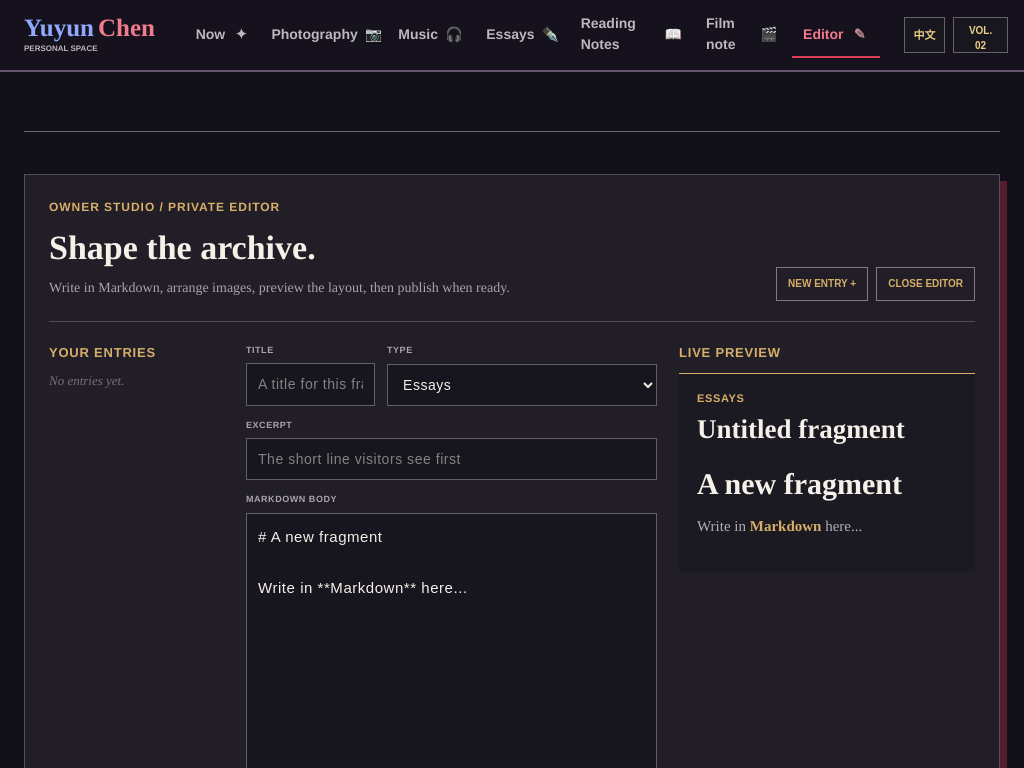
Test: owner session restoration › publishes an entry only to the visitors selected by the owner
The width and height of the screenshot is (1024, 768).
(page scrolled)
Type "For Alice" into the field with placeholder "A title for this fragment".
click(310, 384); type("For Alice")  # box [246,363,375,406]
(page scrolled)
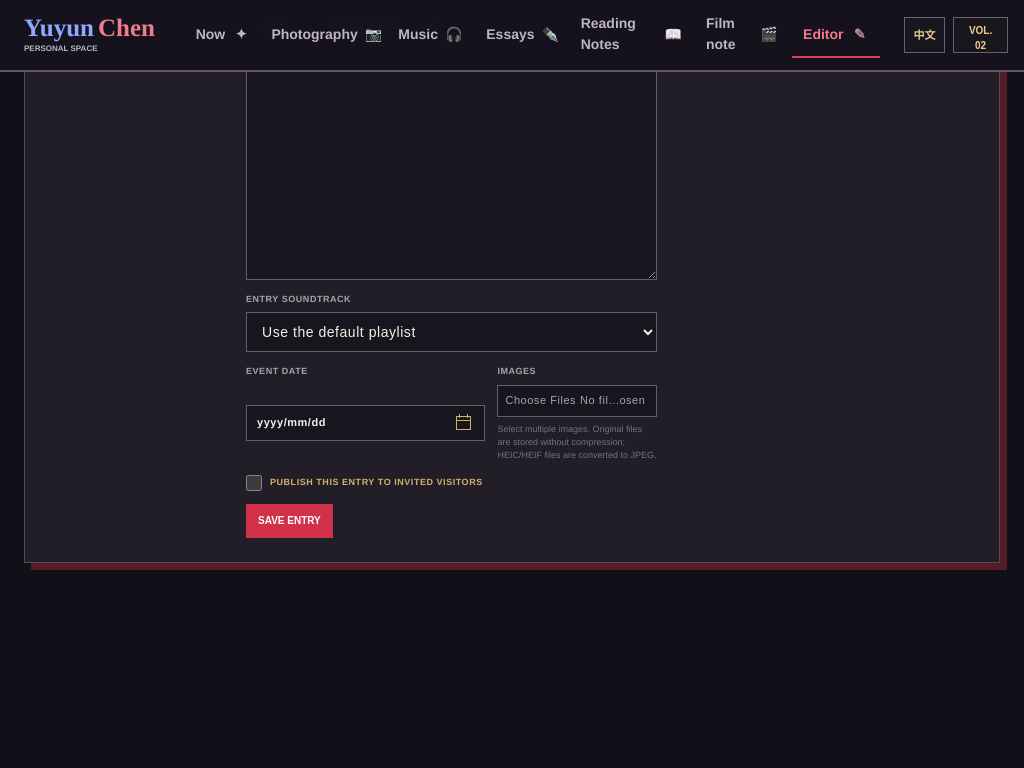
Click the checkbox labelled "Publish this entry to invited visitors".
click(254, 483)  # box [246,475,262,491]
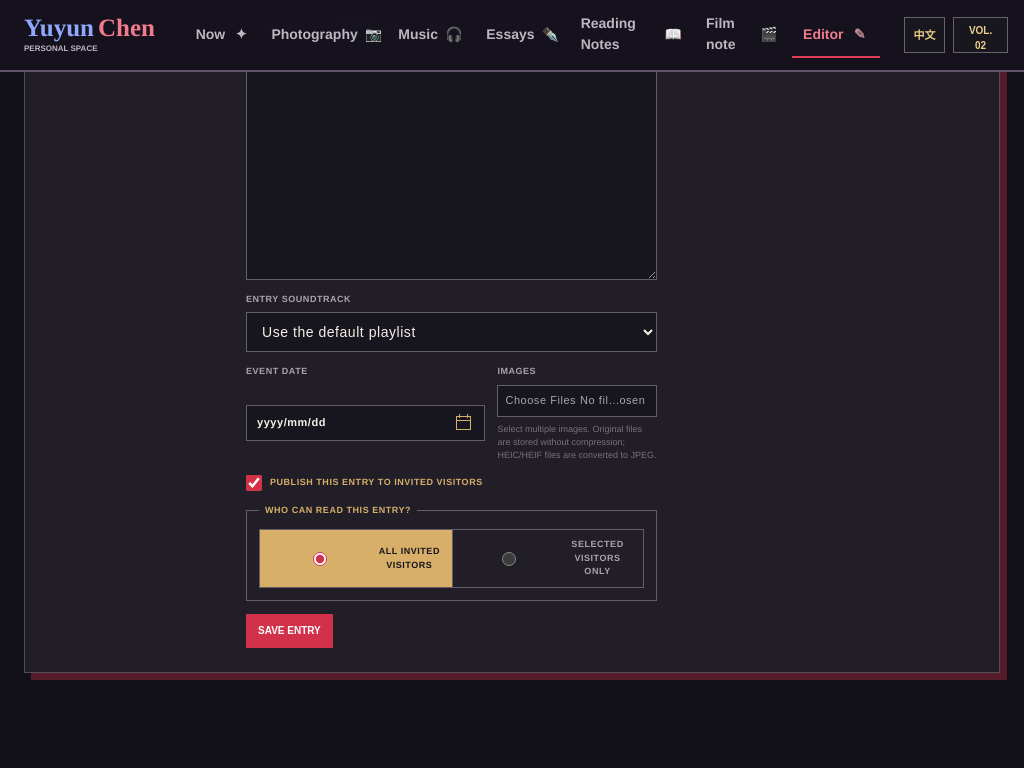
Click the radio button labelled "Selected visitors only".
click(509, 559)  # box [462,552,555,566]
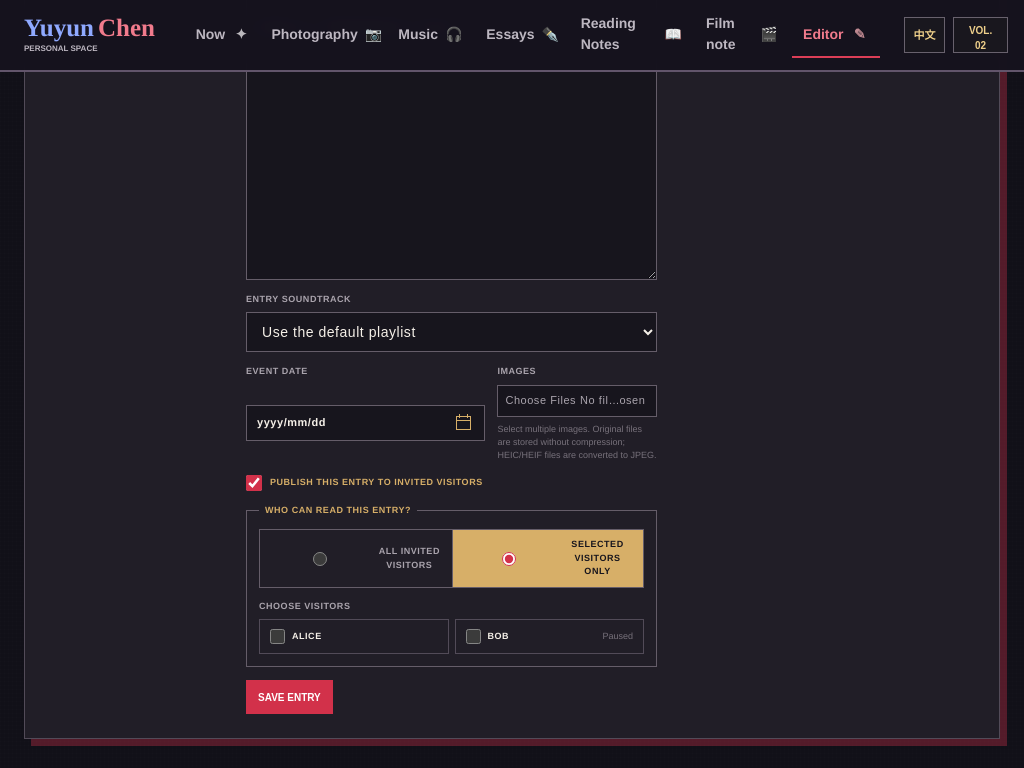
Click the checkbox labelled "Alice".
click(278, 637)  # box [270,630,285,644]
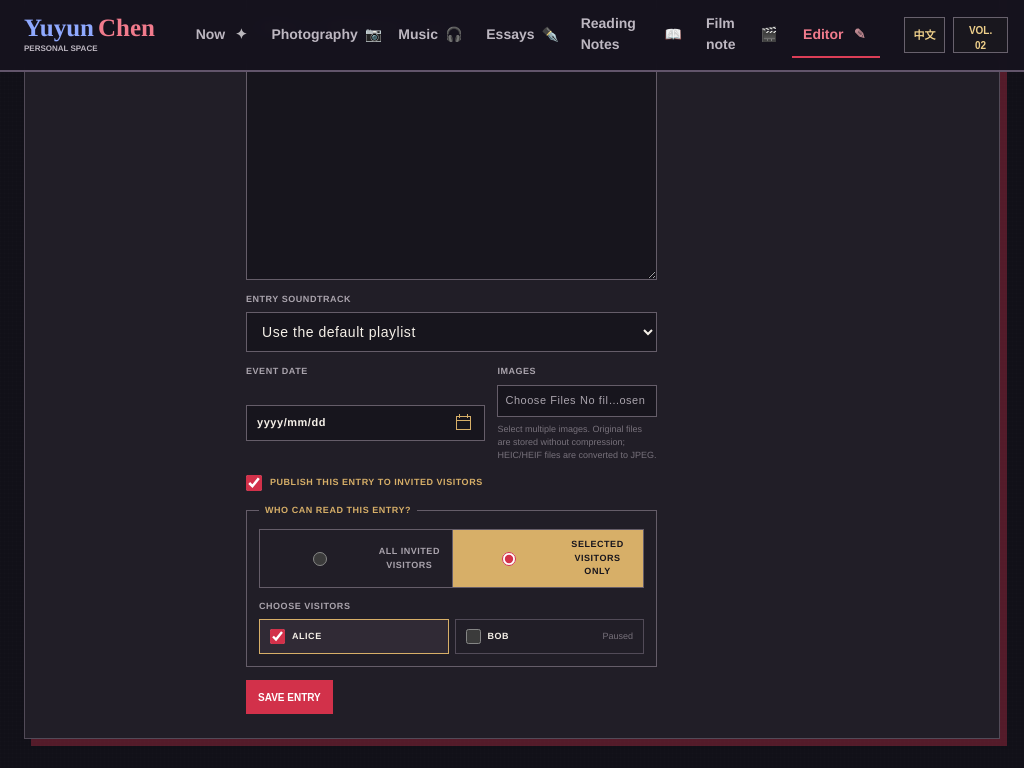
Click the button "Save entry".
click(289, 698)  # box [246,680,333,714]
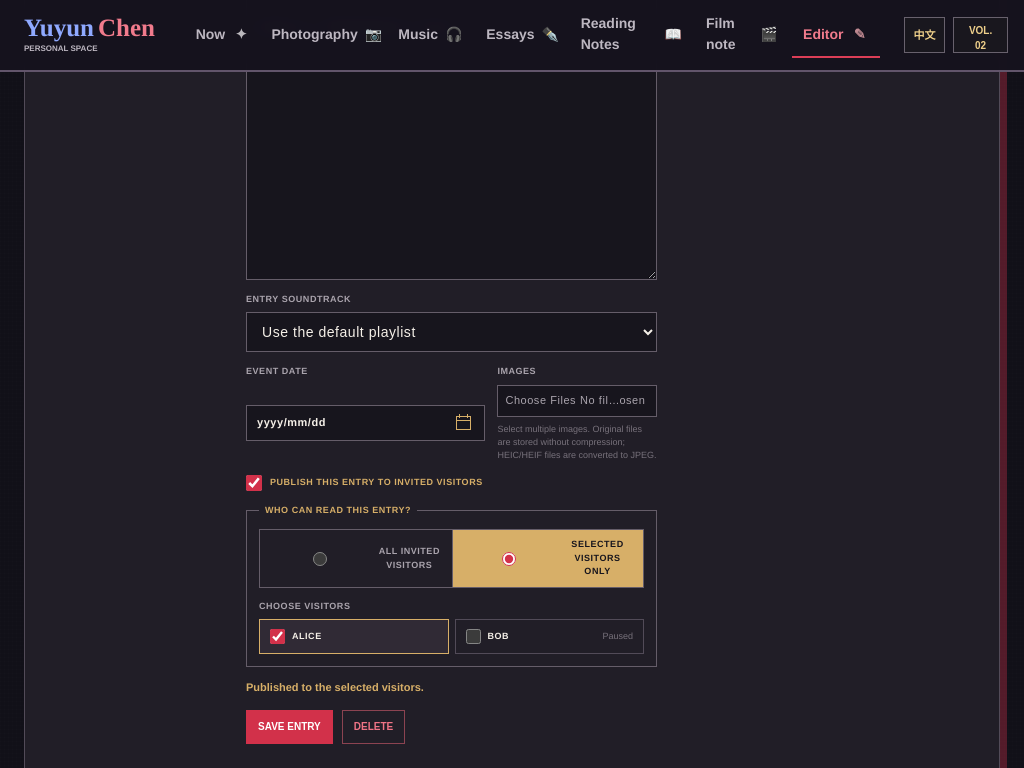
expect the text "Published to the selected visitors." is shown: met, box [246,682,424,694]
